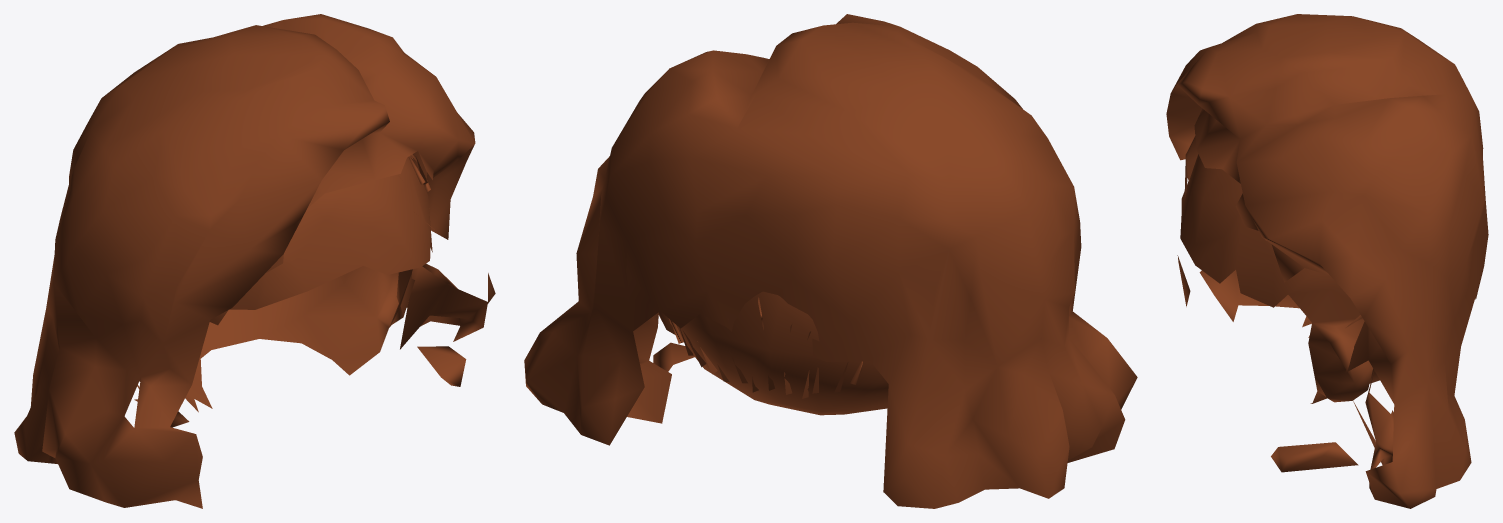
Rendered from long-wavy.glb.
The picture shows the model from 3 angles, left to right: view 1: azimuth 30°, elevation 25°; view 2: azimuth 150°, elevation 25°; view 3: azimuth 270°, elevation 25°; orthographic projection. The views are drawn at different scales.
Visible parts, largest first — view 1: Hair, HairScalp; view 2: Hair, HairScalp, HairPulledRootStrands; view 3: Hair, HairScalp.
Part boxes in pixels (bbox=[...]): Hair: bbox=[14, 14, 495, 508]; HairScalp: bbox=[139, 157, 432, 412]; Hair: bbox=[524, 14, 1137, 508]; HairScalp: bbox=[658, 291, 888, 415]; HairPulledRootStrands: bbox=[670, 297, 862, 398]; Hair: bbox=[1166, 14, 1488, 508]; HairScalp: bbox=[1180, 154, 1379, 403].
Size of the model in its own units: 0.815 by 0.5633 by 0.4584.
